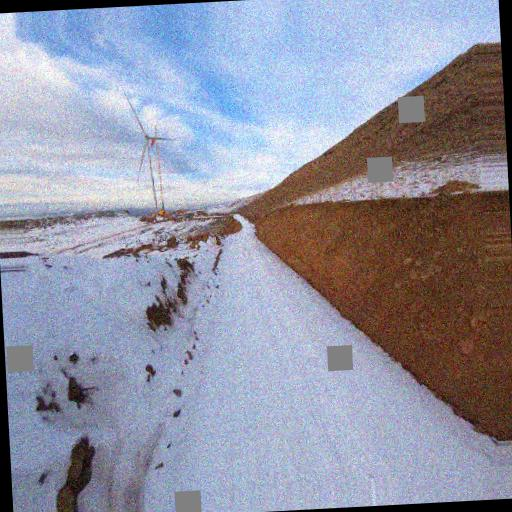wind turbine: (121, 89, 182, 219)
